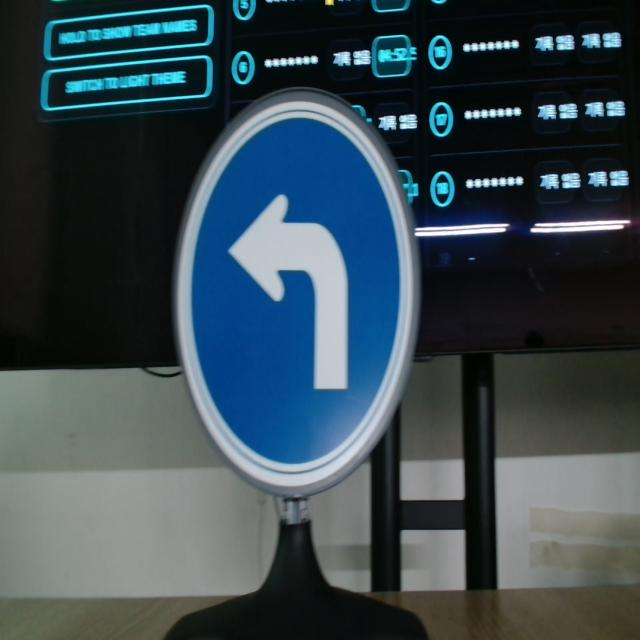left_direction: (175, 78, 432, 518)
